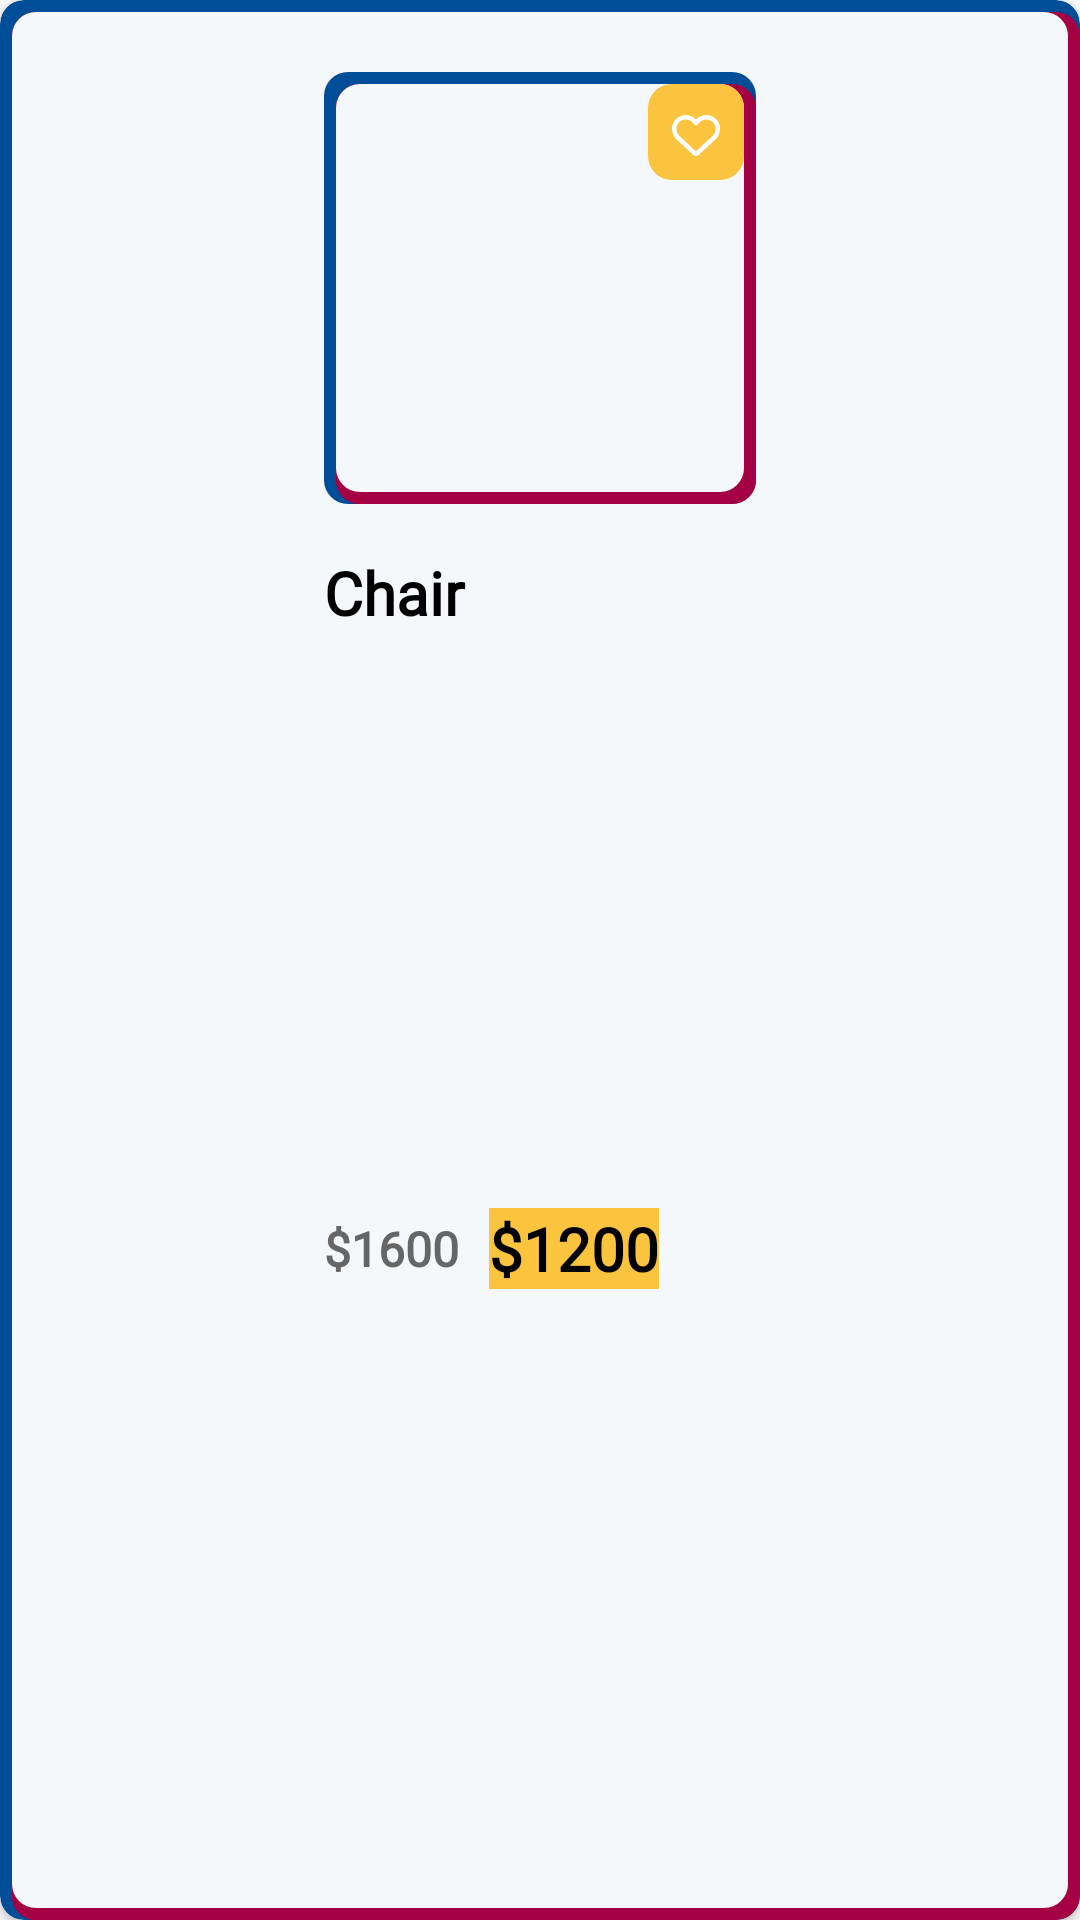

Icon click points for this 1080 × 1920 phone screenshot, format (x=x, y=y):
favorite: (x=696, y=135)
